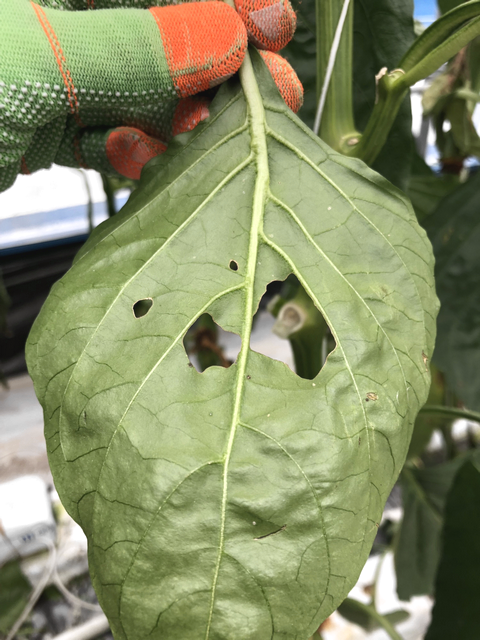snails_and_slugs: (249, 271, 337, 381), (182, 311, 242, 375), (129, 296, 157, 320), (227, 259, 239, 271)
